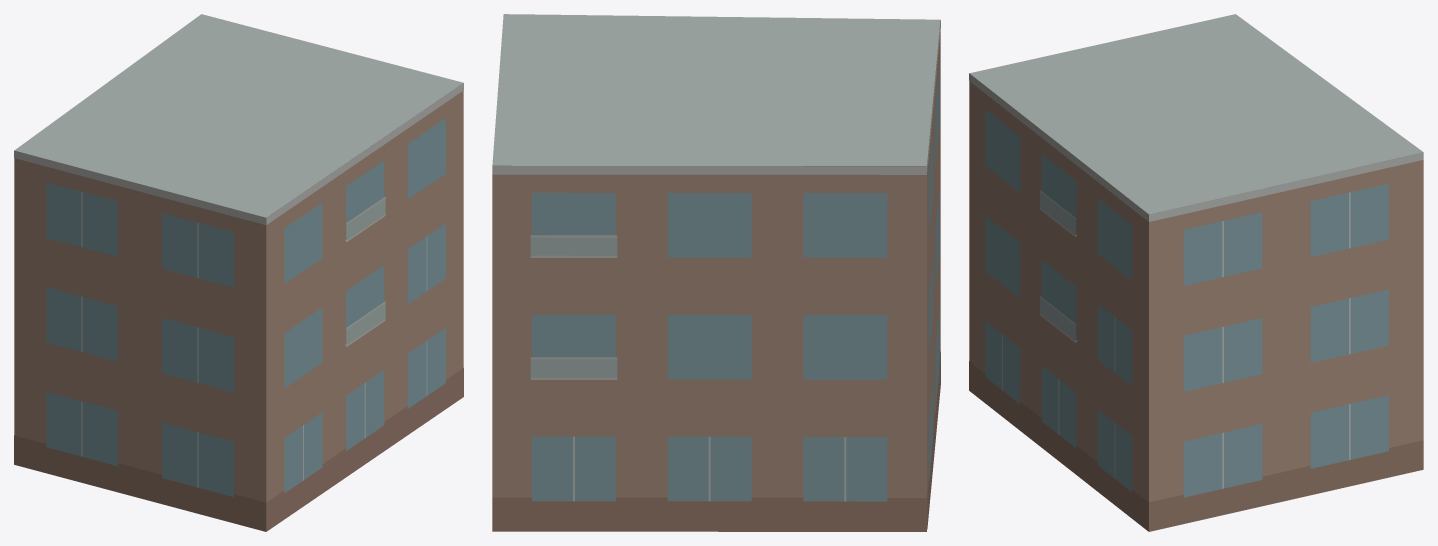
The model's file is survey-upis-32948988.glb.
The picture shows the model from 3 angles, left to right: view 1: azimuth 30°, elevation 25°; view 2: azimuth 150°, elevation 25°; view 3: azimuth 270°, elevation 25°; orthographic projection. The views are drawn at different scales.
Parts seen in each view (by area): view 1: survey-upis-32948988.tmp; view 2: survey-upis-32948988.tmp; view 3: survey-upis-32948988.tmp.
Part boxes in pixels (x1=…): survey-upis-32948988.tmp: x1=14, y1=14, x2=463, y2=531; survey-upis-32948988.tmp: x1=492, y1=14, x2=940, y2=531; survey-upis-32948988.tmp: x1=969, y1=14, x2=1423, y2=531.
Size of the model in its own units: 13.83 by 10.2 by 13.24.
